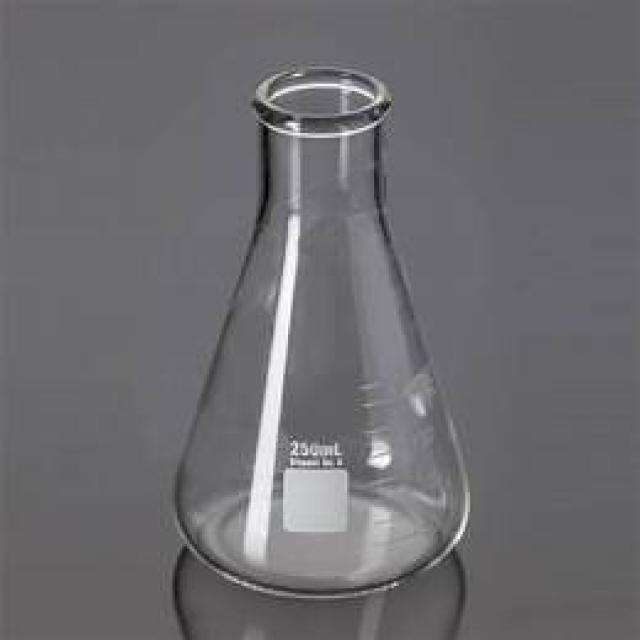Titrarion: (168, 62, 480, 607)
